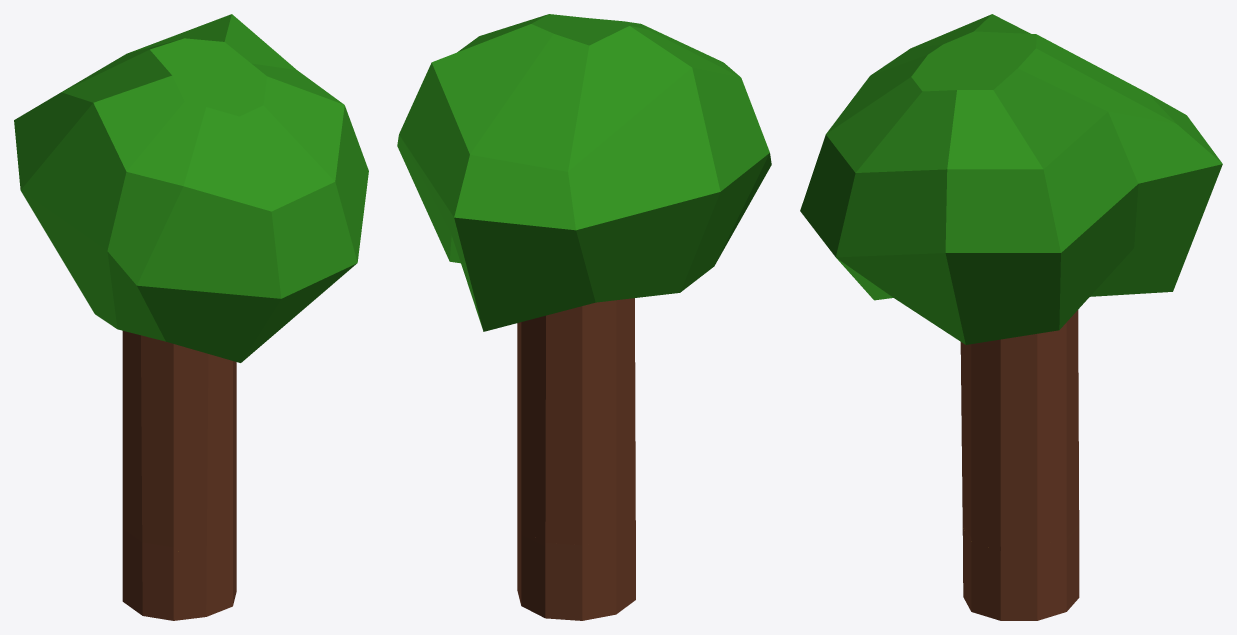
File: normal_tree.fbx
3 renders of one model, left to right at view 1: azimuth 30°, elevation 25°; view 2: azimuth 150°, elevation 25°; view 3: azimuth 270°, elevation 25°, orthographic. The views are drawn at different scales.
Visible parts, largest first — view 1: Tree, Stump; view 2: Tree, Stump; view 3: Tree, Stump.
Boxes of the visible parts, <box> form: Tree: <box>14,14,368,547</box>; Stump: <box>122,523,236,620</box>; Tree: <box>397,14,771,545</box>; Stump: <box>517,520,635,620</box>; Tree: <box>800,14,1222,546</box>; Stump: <box>962,527,1079,620</box>.
Size of the model in its own units: 600 by 1039 by 717.
